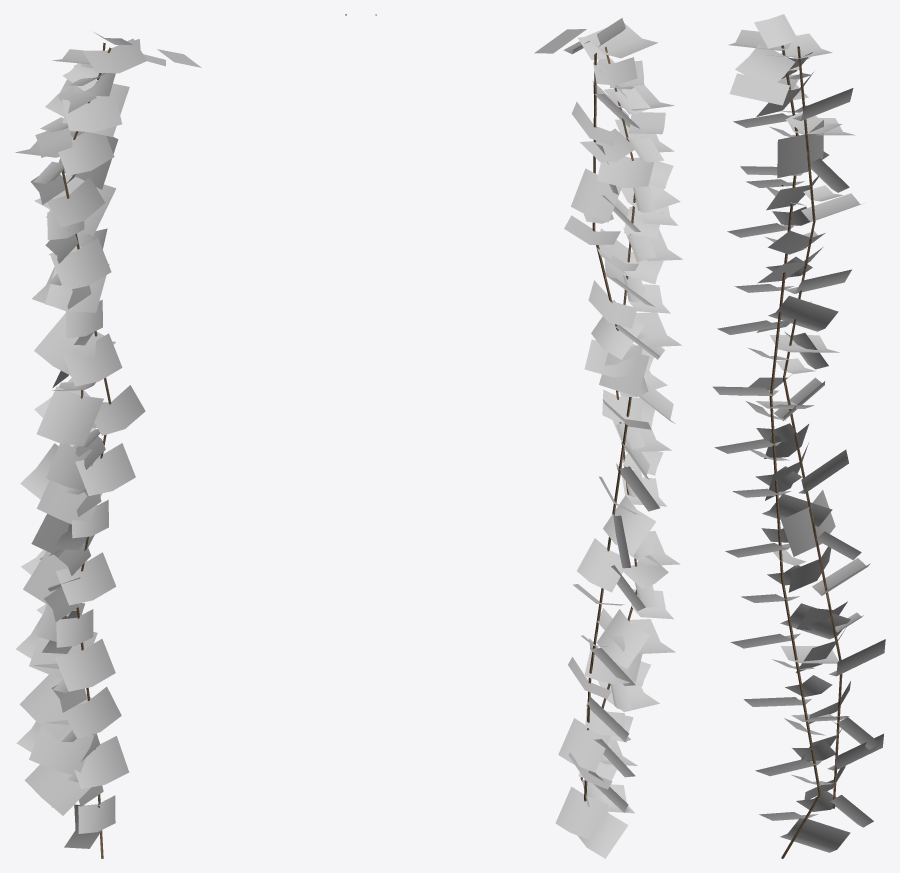
The model's file is long Branch 2.FBX.
3 views of the same model, side by side, from view 1: azimuth 30°, elevation 25°; view 2: azimuth 150°, elevation 25°; view 3: azimuth 270°, elevation 25° (orthographic). The views are drawn at different scales.
Visible parts, largest first — view 1: Object074; view 2: Object074; view 3: Object074.
Part boxes in pixels (<box>): Object074: <box>15,14,346,858</box>; Object074: <box>375,14,682,858</box>; Object074: <box>712,14,885,858</box>.
Size of the model in its own units: 14.4 by 37.02 by 6.92.
